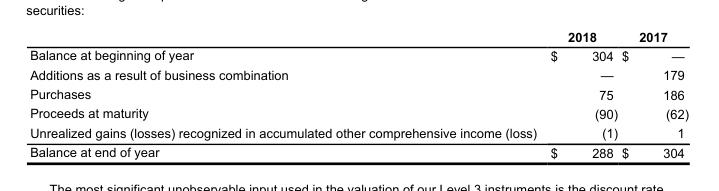table: (29, 28, 688, 159)
table column: (29, 28, 542, 159), (542, 28, 618, 159), (618, 28, 688, 159)
table column header: (29, 28, 688, 45)
table row: (29, 64, 688, 84), (29, 122, 688, 142), (29, 45, 688, 64), (29, 84, 688, 103), (29, 103, 688, 122), (29, 28, 688, 45), (29, 142, 688, 159)
